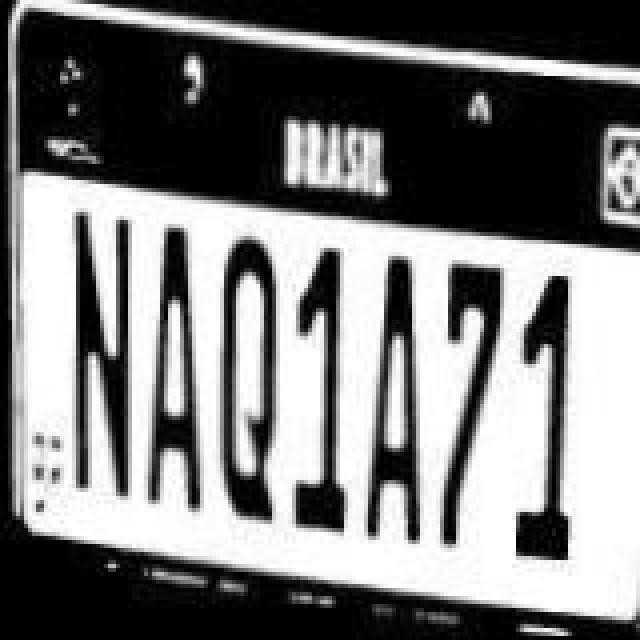1: (502, 254, 582, 562), (290, 216, 366, 532)
7: (430, 250, 510, 566)
A: (138, 204, 222, 524), (360, 232, 436, 544)
N: (62, 196, 146, 516)
Q: (220, 214, 300, 530)
